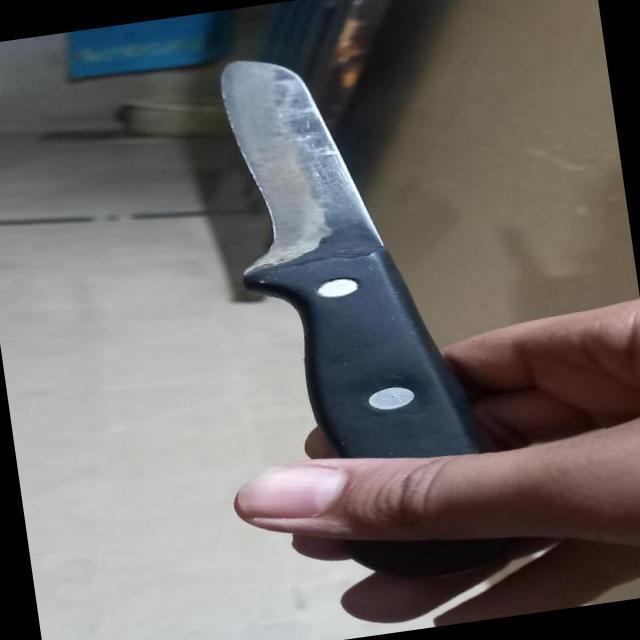Knife: (185, 10, 496, 523)
